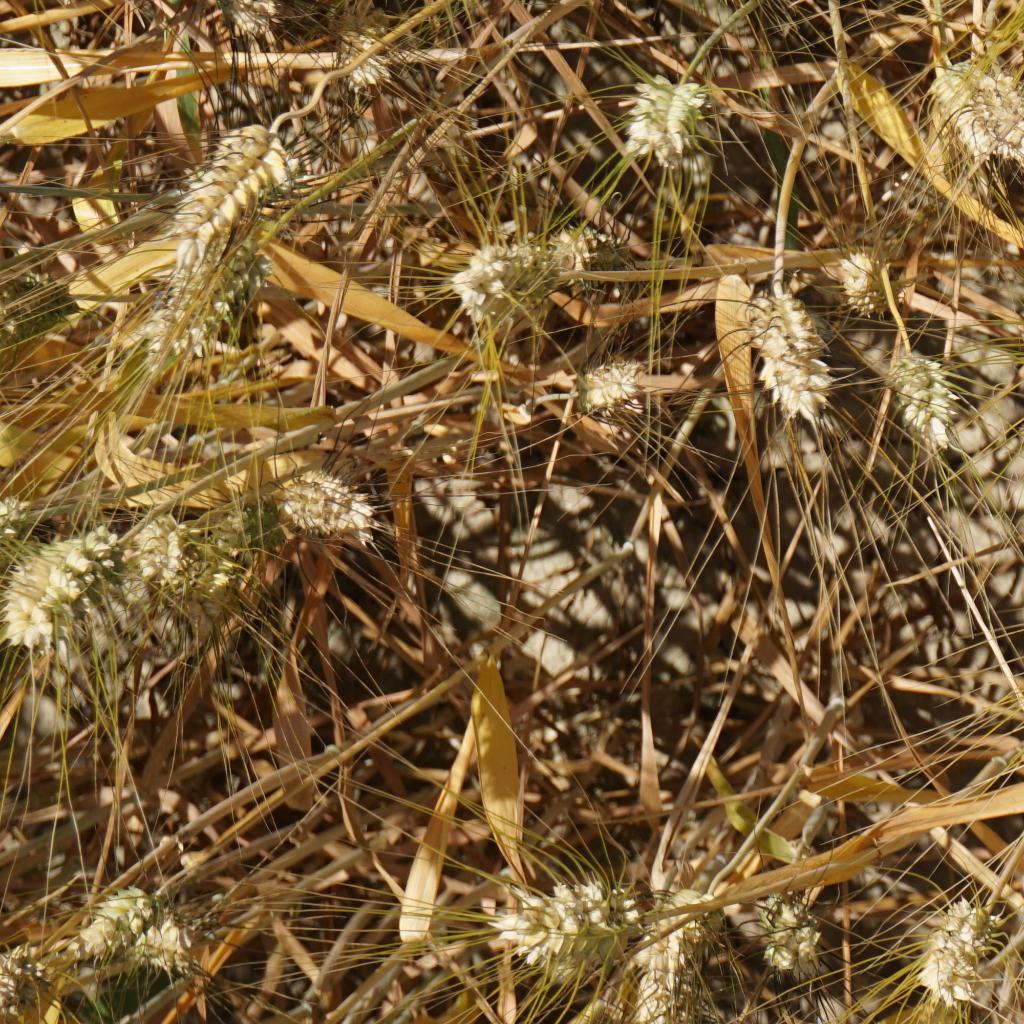0-0: (456, 862, 618, 965), (157, 116, 297, 220), (618, 882, 719, 1024), (742, 273, 833, 415), (159, 220, 260, 338), (6, 525, 102, 646), (600, 79, 730, 166), (907, 902, 1012, 1008), (132, 502, 230, 610), (139, 917, 240, 1002), (756, 876, 840, 978), (269, 456, 377, 529), (966, 29, 1024, 159), (442, 228, 531, 309), (888, 346, 954, 444), (74, 874, 165, 941), (545, 206, 614, 289), (931, 41, 980, 153), (0, 947, 90, 1006), (569, 346, 640, 411), (830, 230, 880, 307), (340, 23, 390, 90), (218, 0, 283, 37)
